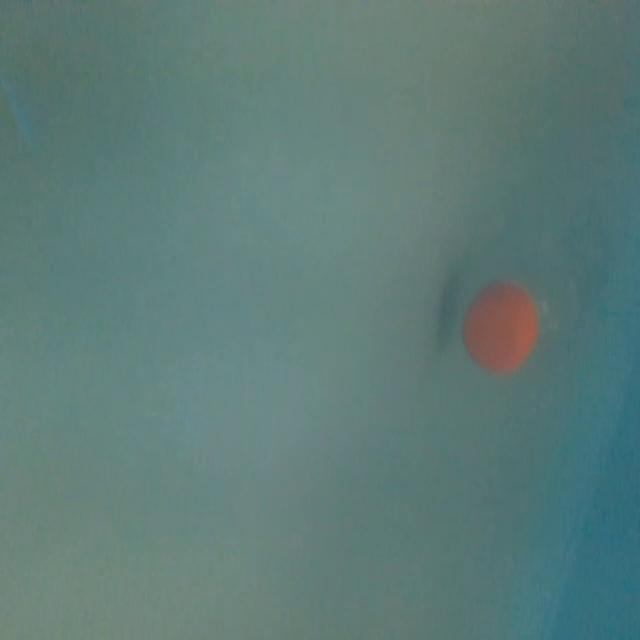plastic bottle: (431, 53, 640, 384)
